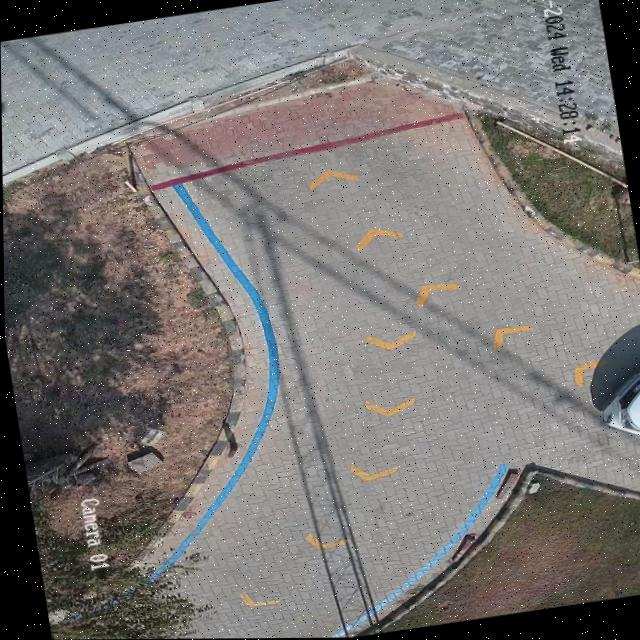car: (599, 368, 640, 437)
